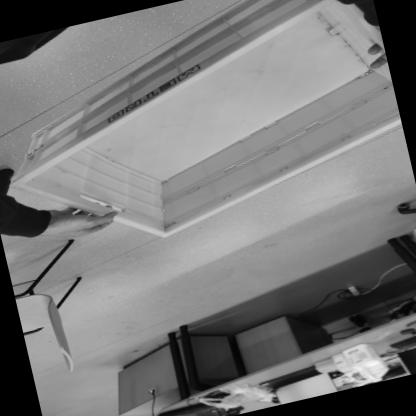box: (0, 0, 416, 276)
